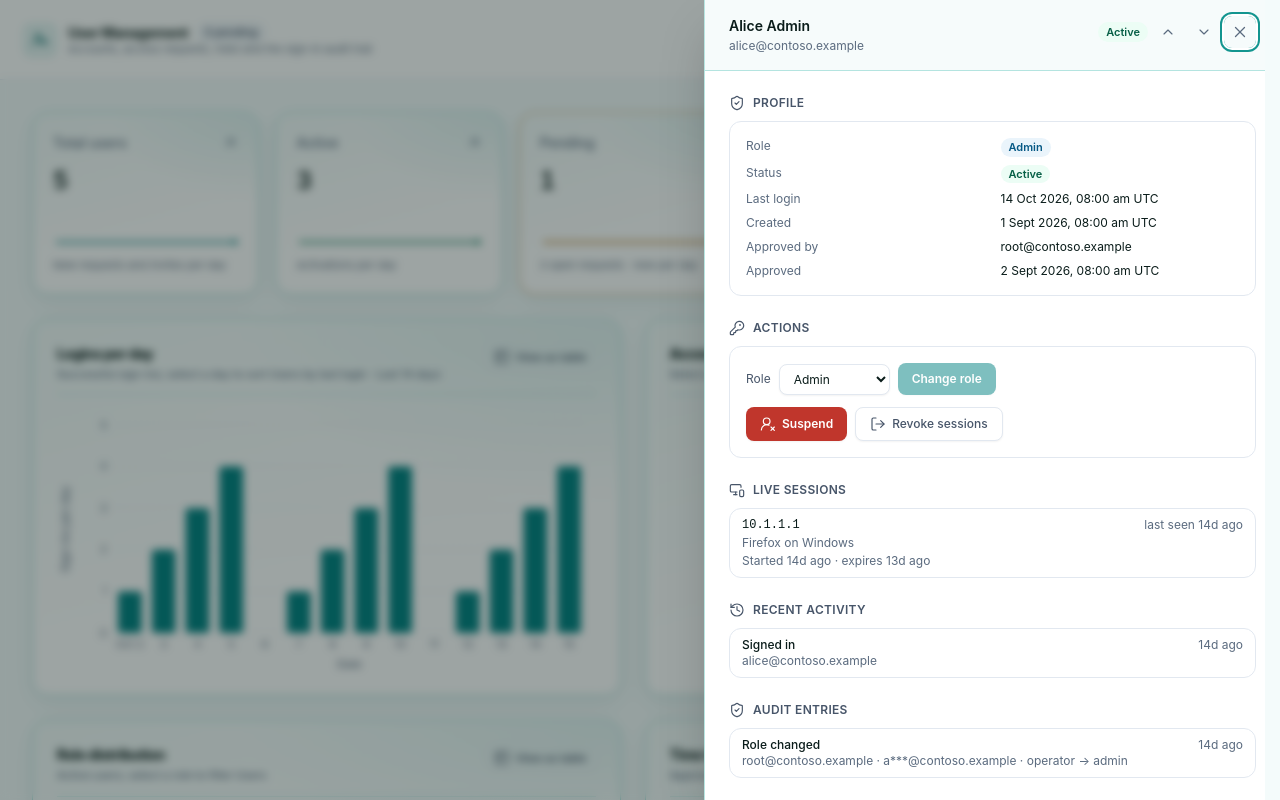
Test: Users tab › changes a role optimistically and sends the version with the CSRF header
The width and height of the screenshot is (1280, 800).
Select "Operator" in the dropdown labelled "Role" at (834, 379), box [779,364,890,395]
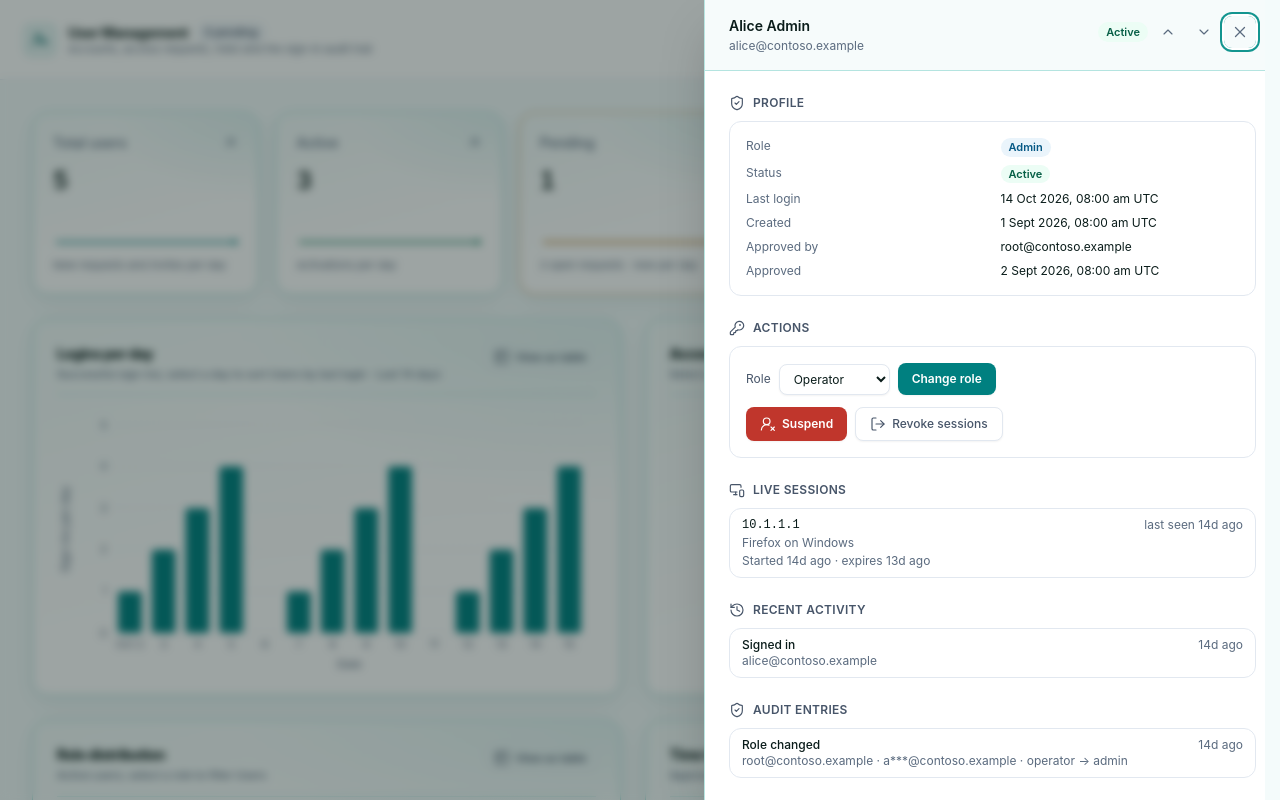
Click the button "Change role" at (947, 379), box [898,363,996,395]
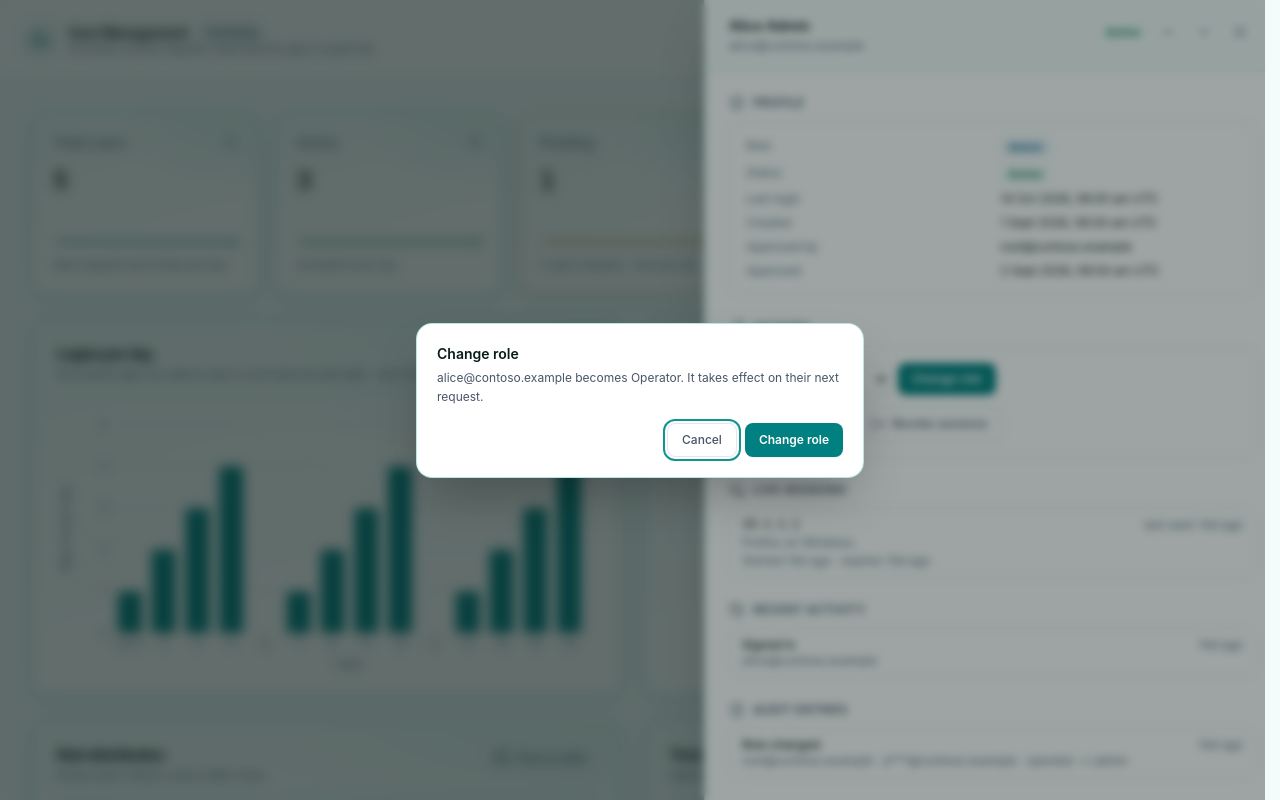
Click the button "Change role" at (794, 440), box [745,422,843,456]
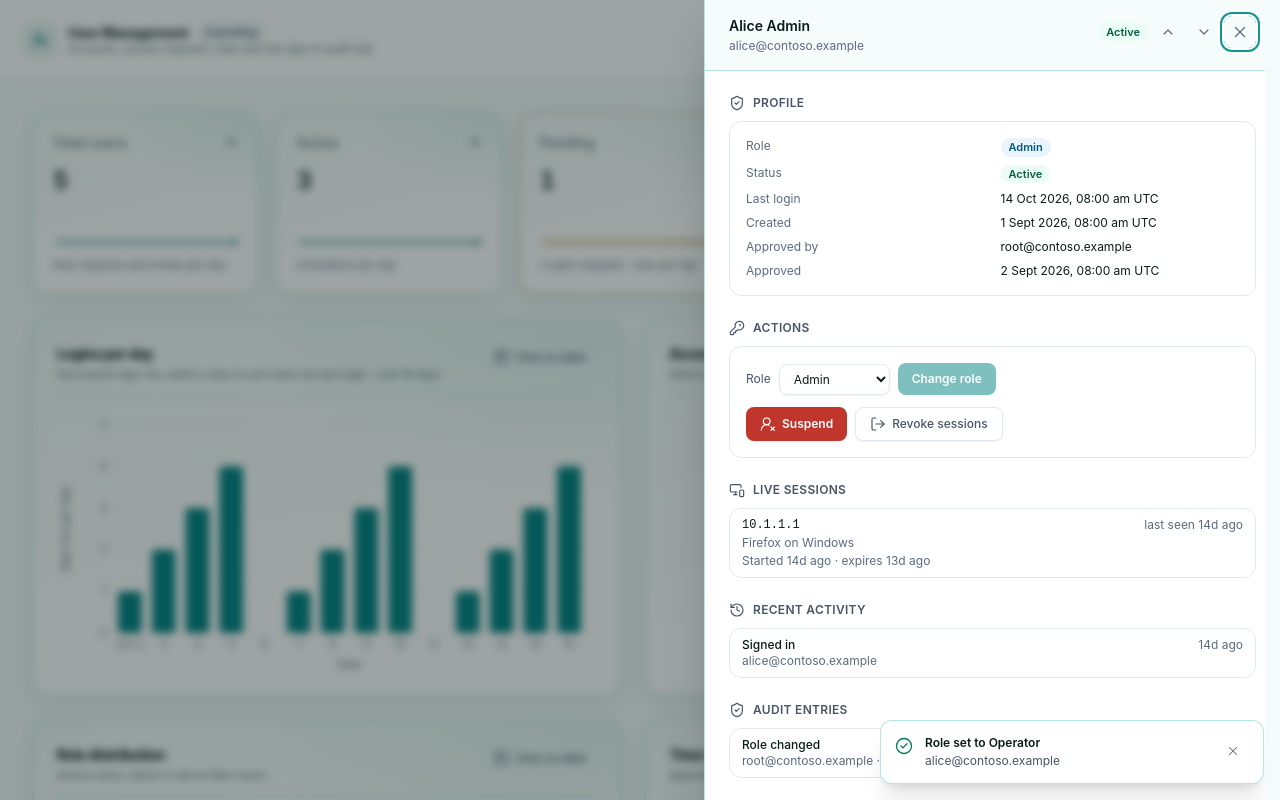
Expected: the text "Role set to Operator" is shown, [925,735,1040,750]
